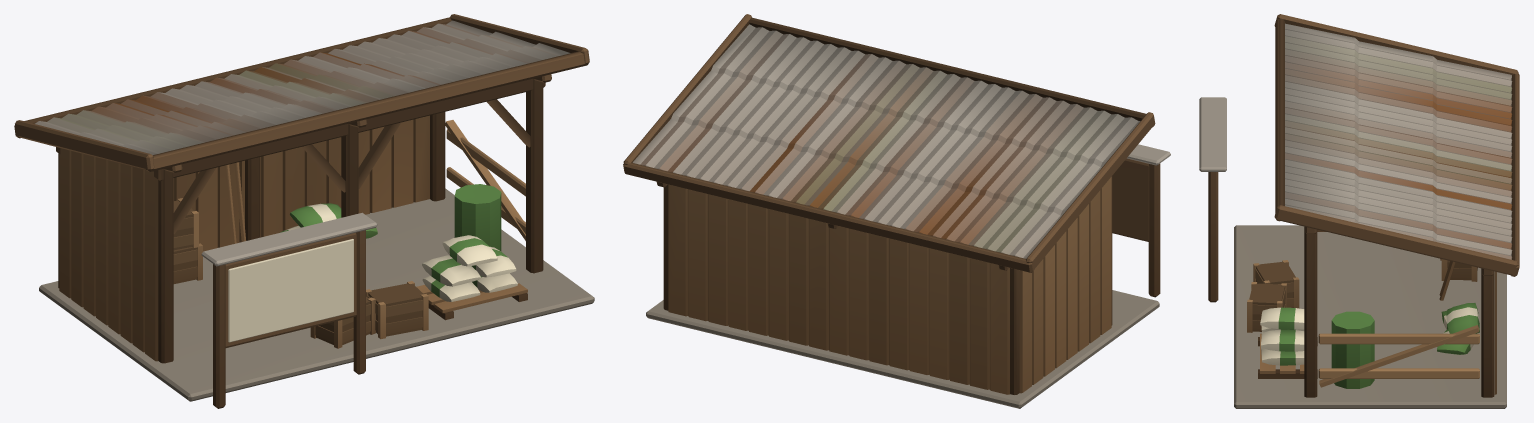
File: gudang.glb
The picture shows the model from 3 angles, left to right: view 1: azimuth 30°, elevation 25°; view 2: azimuth 150°, elevation 25°; view 3: azimuth 270°, elevation 25°; orthographic projection. The views are drawn at different scales.
Parts seen in each view (by area): view 1: gudang_mesh, SignBoard; view 2: gudang_mesh; view 3: gudang_mesh.
Boxes of the visible parts, <box> form: gudang_mesh: <box>14,14,594,408</box>; SignBoard: <box>228,239,353,342</box>; gudang_mesh: <box>623,14,1170,408</box>; gudang_mesh: <box>1199,14,1519,408</box>.
Size of the model in its own units: 5.98 by 3.02 by 4.16.
